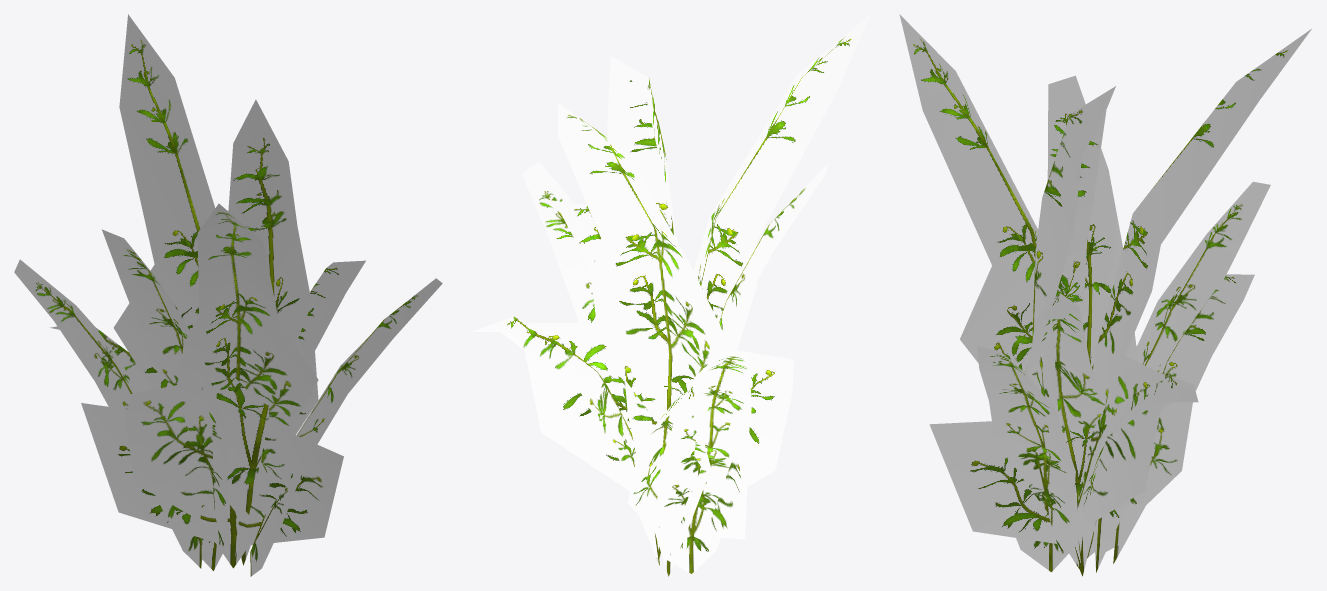
File: Interactable-Herb.fbx
3 views of the same model, side by side, from view 1: azimuth 30°, elevation 25°; view 2: azimuth 150°, elevation 25°; view 3: azimuth 270°, elevation 25° (orthographic). The views are drawn at different scales.
Parts seen in each view (by area): view 1: Interactable-Herb; view 2: Interactable-Herb; view 3: Interactable-Herb.
Part boxes in pixels (x1,y1,x2,y2): Interactable-Herb: (14, 14, 442, 576); Interactable-Herb: (472, 14, 870, 576); Interactable-Herb: (899, 14, 1311, 576).
Bounding box in the file's own units: 22.98 × 33.99 × 23.5.
